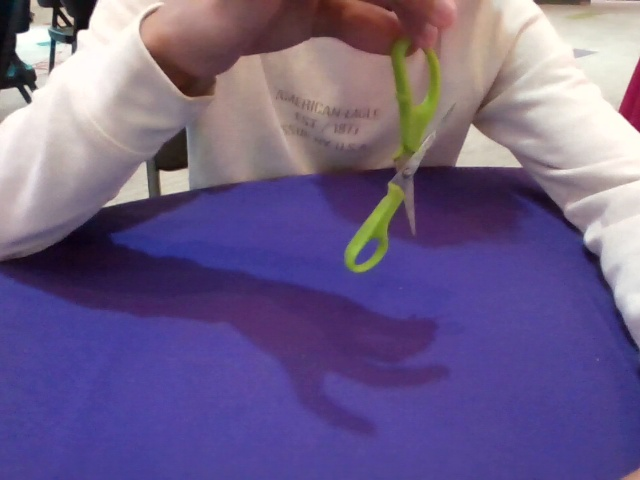tijeras: (344, 40, 445, 275)
